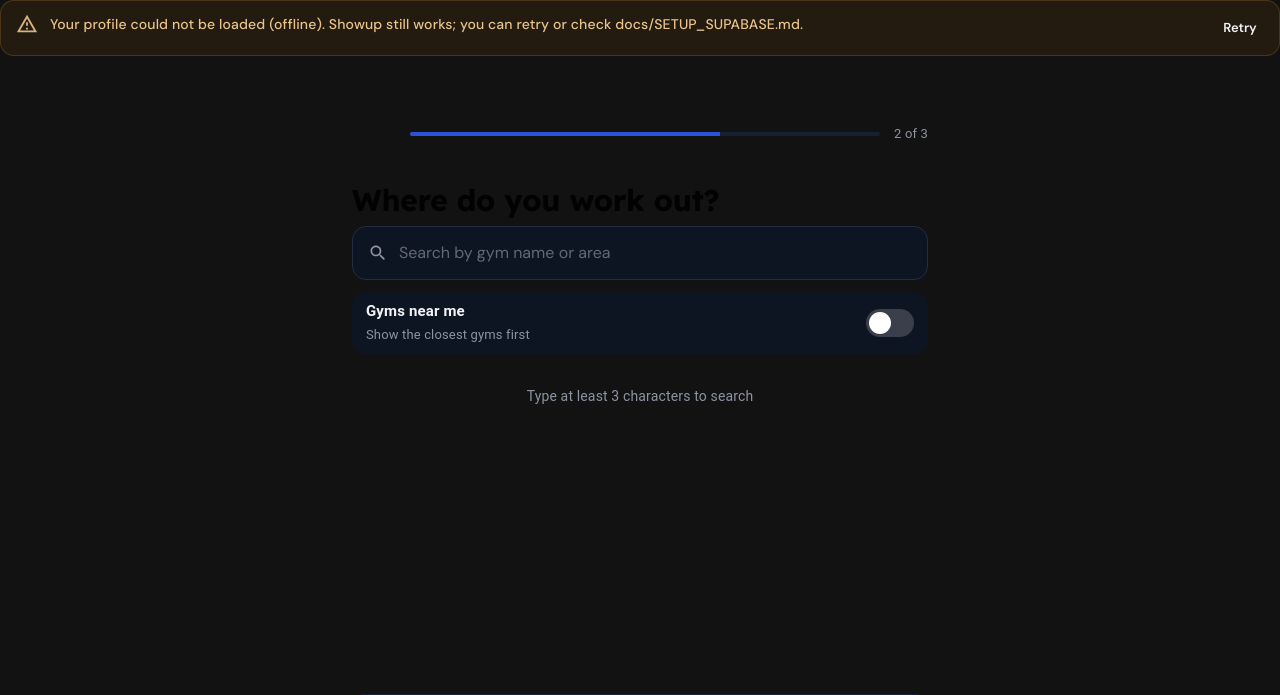
Test: regular user (is_admin = false) › stays restricted while the profile could not be loaded
In the search field named "search gyms": (640, 253) [352,226,928,280], type "iron"
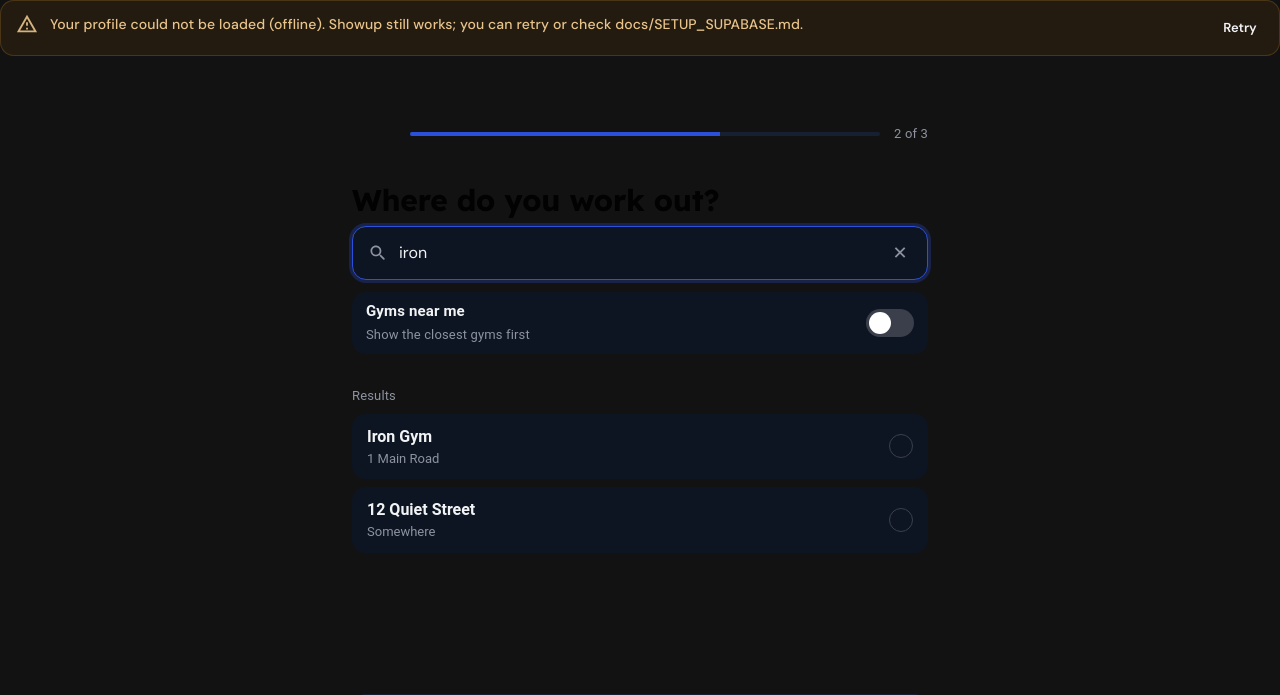
Click the radio button labelled "12 Quiet Street Somewhere": (421, 510) [352,487,928,553]
(page scrolled)
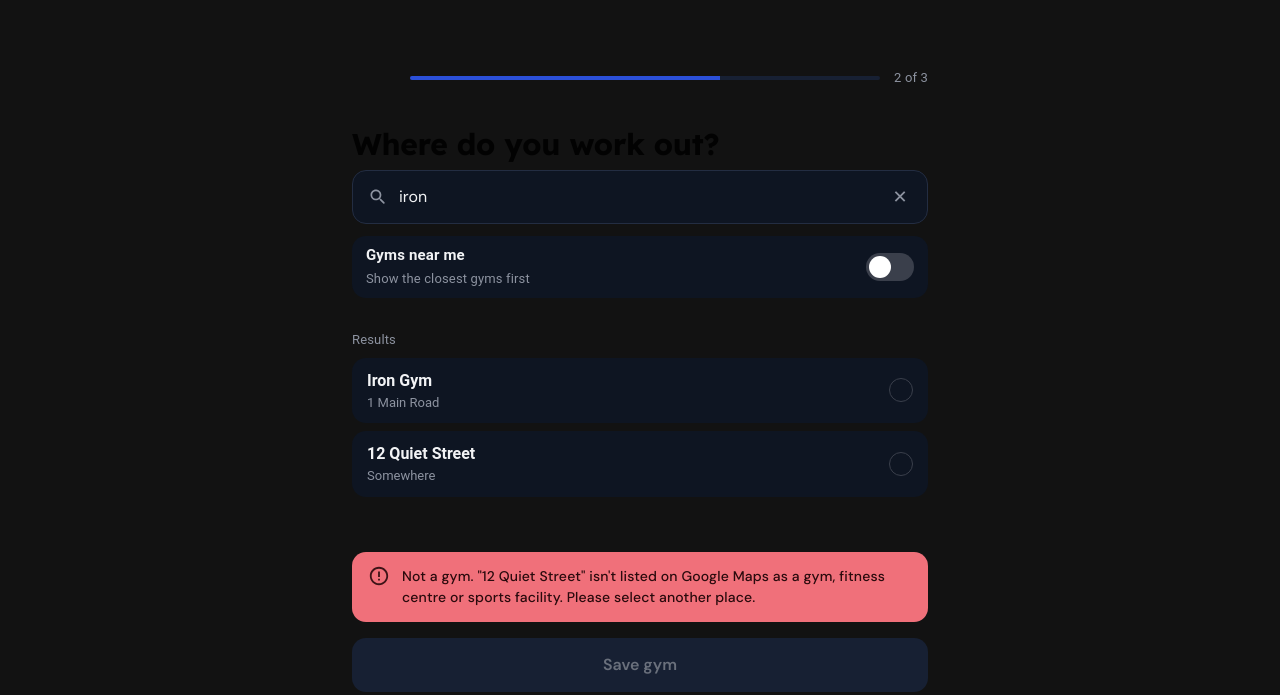
Expected: the button "Save gym" is disabled, [352,638,928,692]
Expected: the text "Not a gym" is shown, [402,567,885,606]
